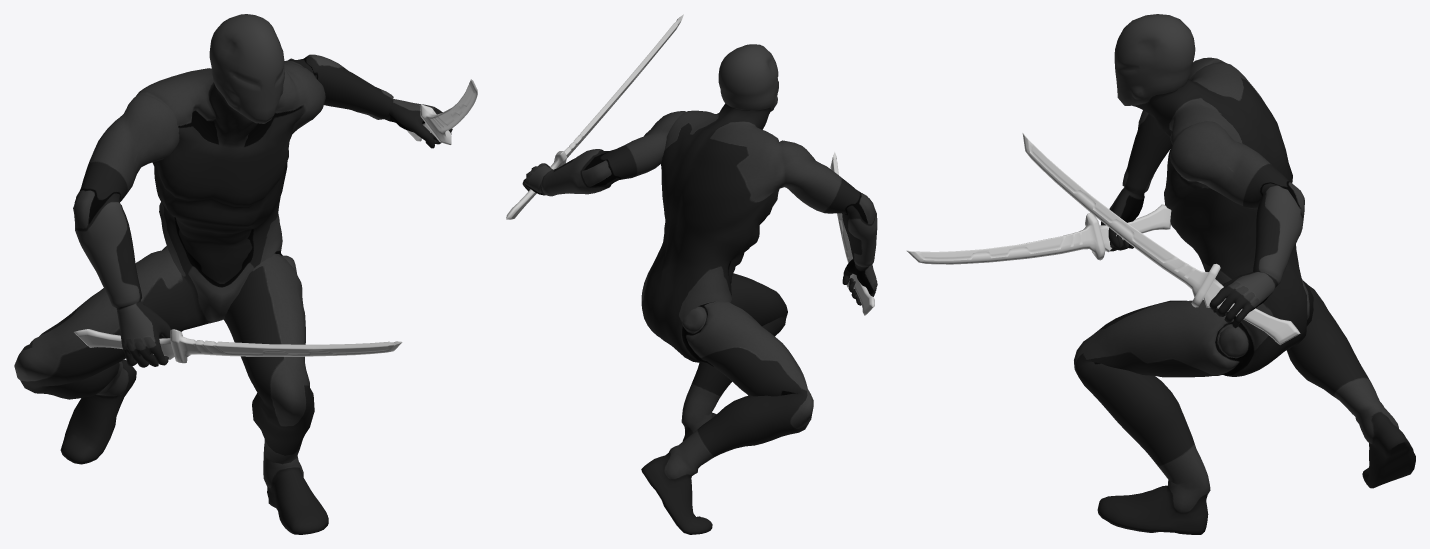
3 renders of one model, left to right at view 1: azimuth 30°, elevation 25°; view 2: azimuth 150°, elevation 25°; view 3: azimuth 270°, elevation 25°, orthographic. The views are drawn at different scales.
Visible parts, largest first — view 1: Cyborg_Ninja_Killer, Sword_l001, Sword_l; view 2: Cyborg_Ninja_Killer, Sword_l, Sword_l001; view 3: Cyborg_Ninja_Killer, Sword_l, Sword_l001.
Part boxes in pixels (<box>): Cyborg_Ninja_Killer: <box>14,14,452,534</box>; Sword_l001: <box>74,329,402,363</box>; Sword_l: <box>406,79,477,144</box>; Cyborg_Ninja_Killer: <box>522,44,877,534</box>; Sword_l: <box>506,14,683,219</box>; Sword_l001: <box>830,152,874,315</box>; Cyborg_Ninja_Killer: <box>1074,14,1415,534</box>; Sword_l: <box>1022,133,1300,344</box>; Sword_l001: <box>906,204,1171,264</box>.
Size of the model in its own units: 117 by 141 by 133.
